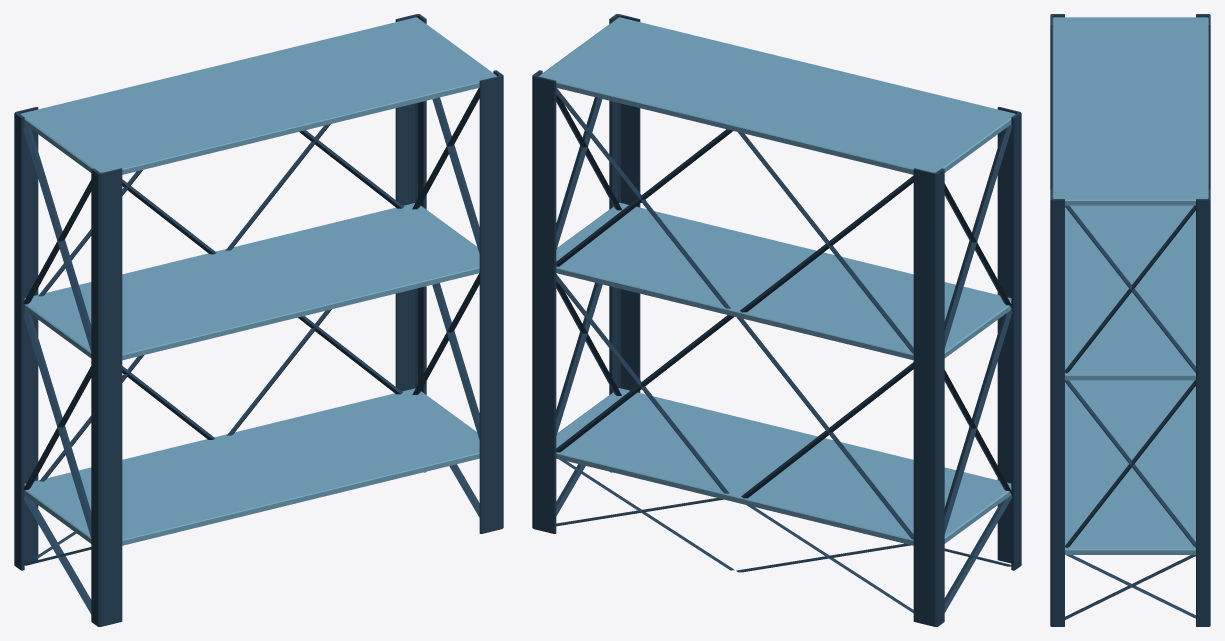
The model's file is Prop_Rack_A.fbx.
3 views of the same model, side by side, from view 1: azimuth 30°, elevation 25°; view 2: azimuth 150°, elevation 25°; view 3: azimuth 270°, elevation 25° (orthographic). The views are drawn at different scales.
Visible parts, largest first — view 1: Prop_Rack_A; view 2: Prop_Rack_A; view 3: Prop_Rack_A.
Boxes of the visible parts, x1,y1,x2,y2 form: Prop_Rack_A: [14, 14, 503, 626]; Prop_Rack_A: [532, 14, 1021, 626]; Prop_Rack_A: [1050, 14, 1210, 626].
Size of the model in its own units: 143 by 393 by 419.
